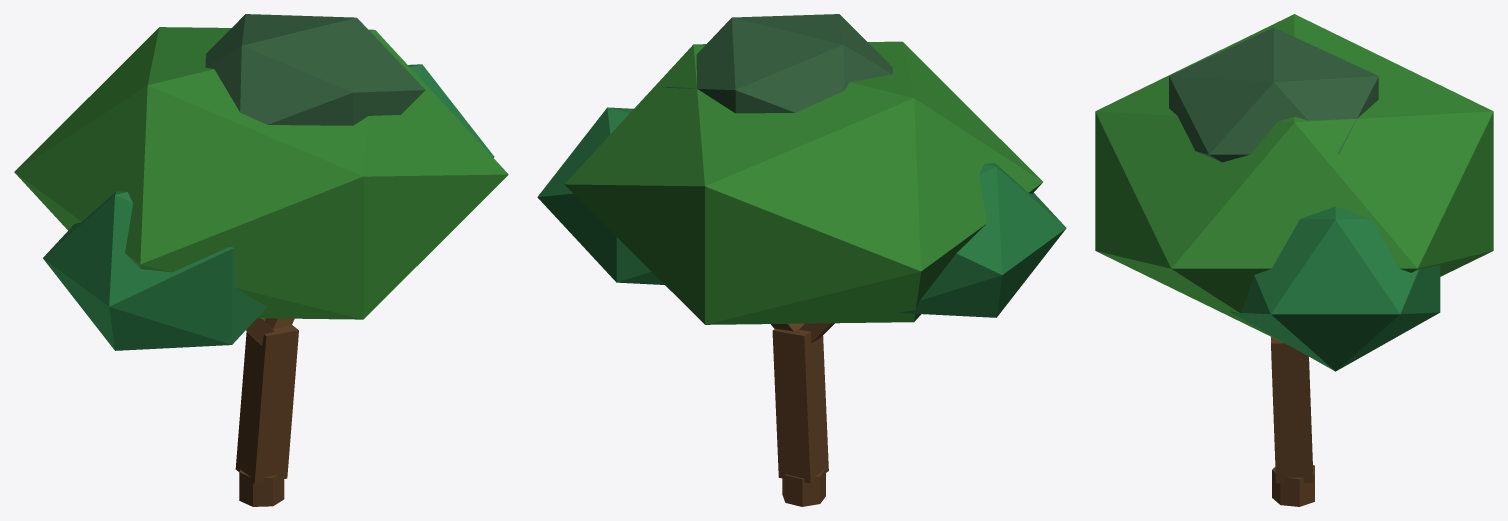
File: prop_shade-tree.01e8d2da0730.glb
3 views of the same model, side by side, from view 1: azimuth 30°, elevation 25°; view 2: azimuth 150°, elevation 25°; view 3: azimuth 270°, elevation 25° (orthographic). The views are drawn at different scales.
Visible parts, largest first — view 1: body; view 2: body; view 3: body.
Boxes of the visible parts, box(x1,y1,x2,y2) form: body: box(14, 14, 508, 506); body: box(537, 14, 1066, 506); body: box(1095, 14, 1493, 506).
Size of the model in its own units: 4.75 by 4.9 by 3.88.
